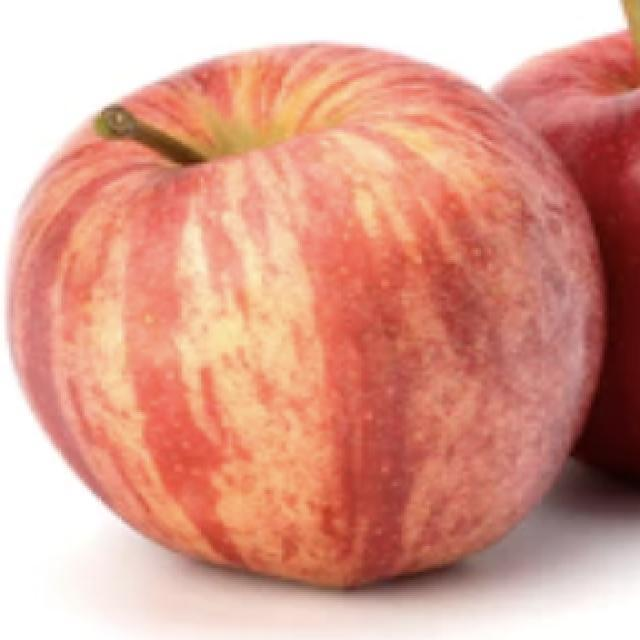Fresh Apple: (45, 62, 590, 548)
